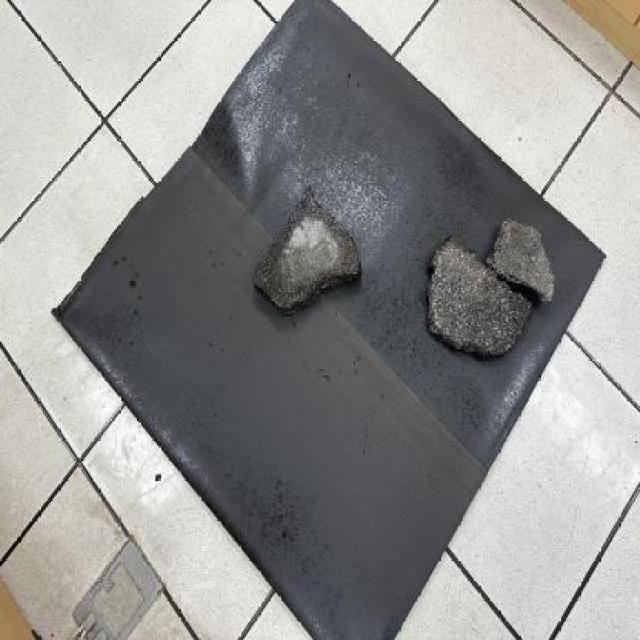Road Debris: (462, 278, 535, 358), (256, 248, 329, 314), (486, 220, 542, 277)
